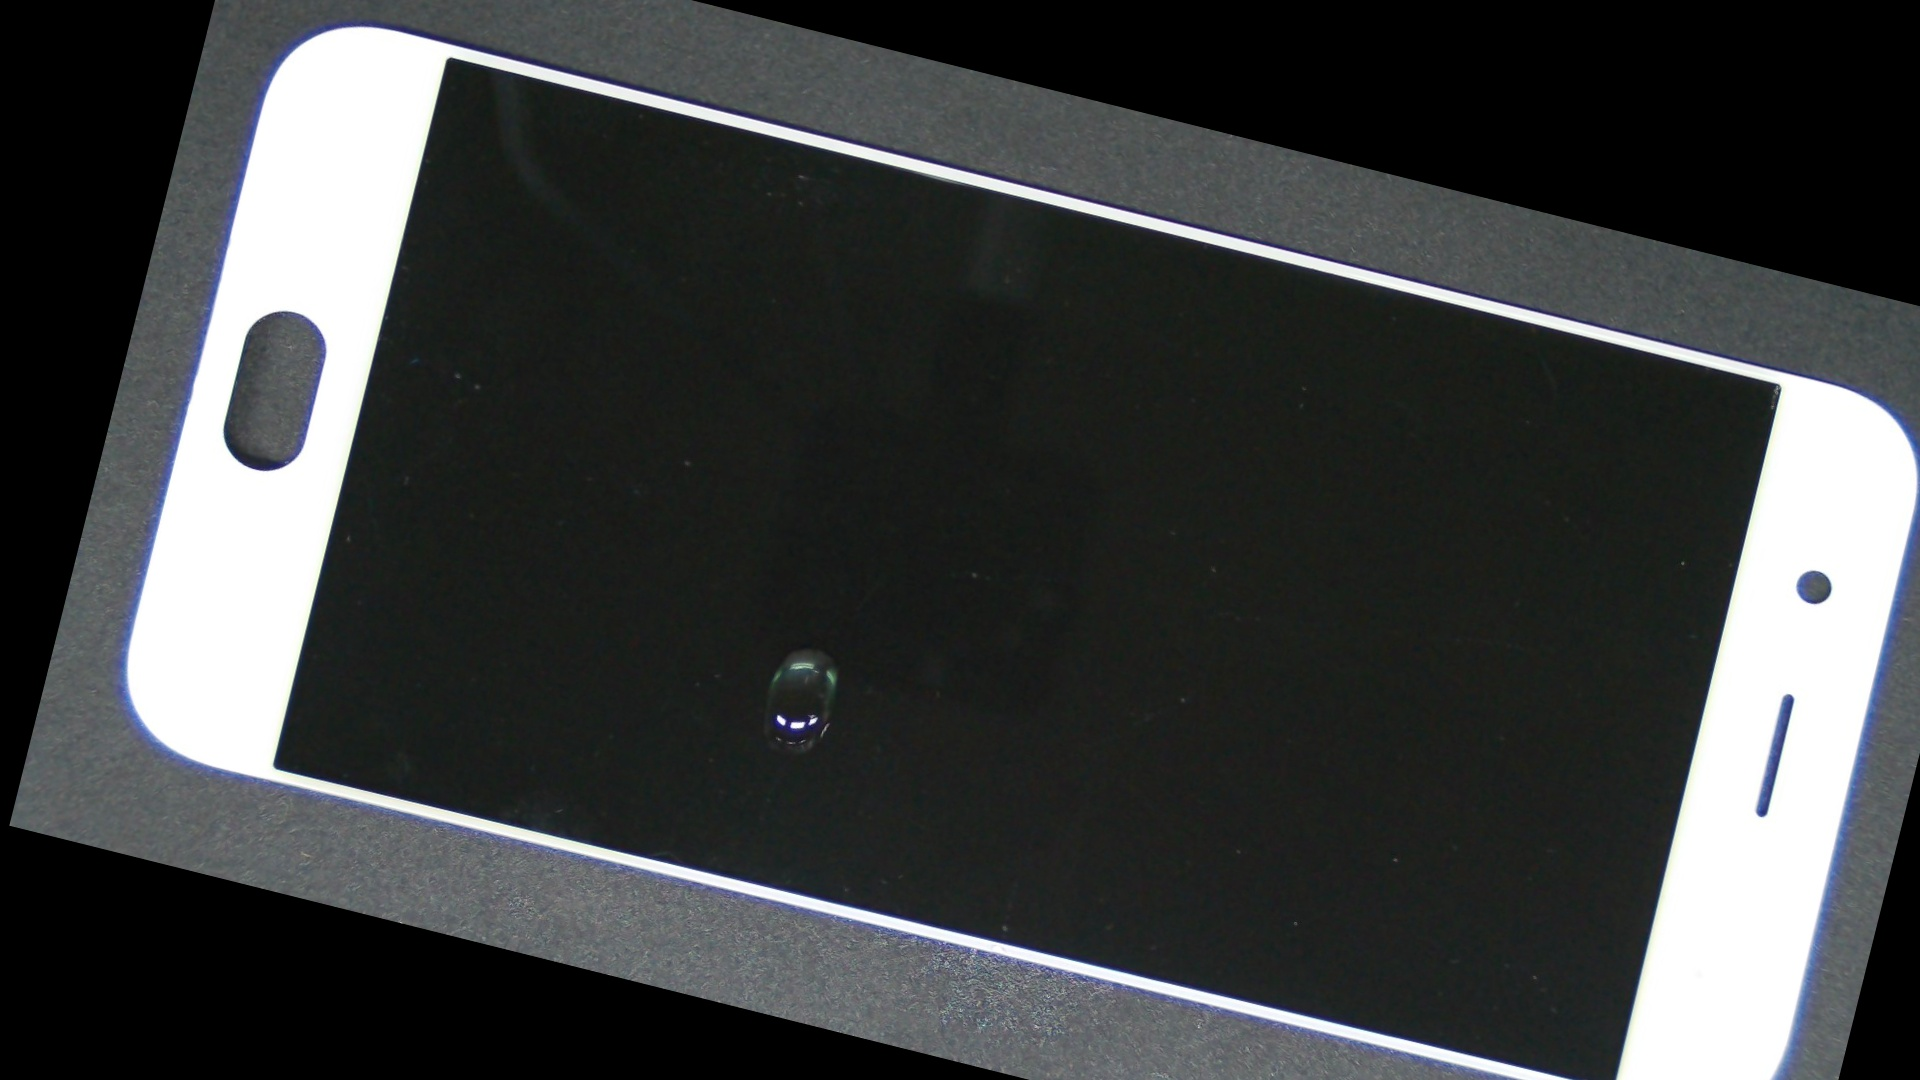oil: (384, 269, 1246, 1031)
